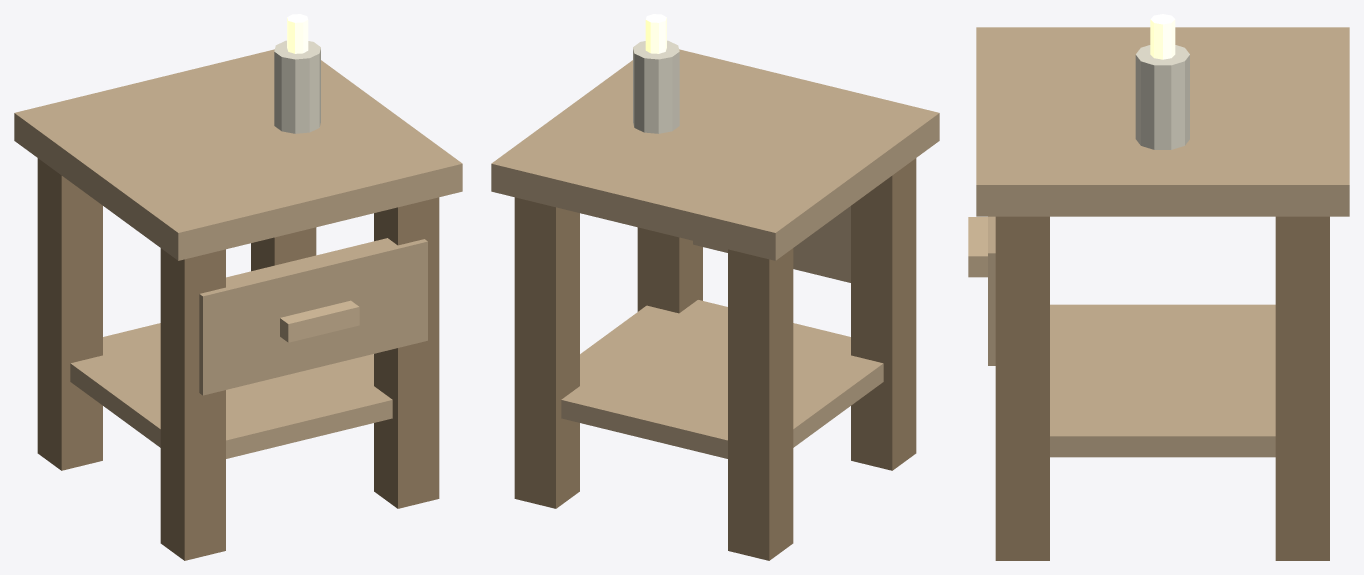
The model's file is 18-Casas_velador.glb.
The picture shows the model from 3 angles, left to right: view 1: azimuth 30°, elevation 25°; view 2: azimuth 150°, elevation 25°; view 3: azimuth 270°, elevation 25°; orthographic projection. The views are drawn at different scales.
Visible parts, largest first — view 1: SM_Velador_Tablero, SM_Velador_Cajon, SM_Velador_Repisa, SM_Velador_Pata_PD, SM_Velador_Pata_PI, SM_Velador_Pata_CI, SM_Velador_VelaLlama, SM_Velador_Tirador, SM_Velador_Pata_CD; view 2: SM_Velador_Tablero, SM_Velador_Repisa, SM_Velador_Pata_PD, SM_Velador_Pata_CD, SM_Velador_Pata_PI, SM_Velador_Pata_CI, SM_Velador_VelaLlama, SM_Velador_Cajon; view 3: SM_Velador_Tablero, SM_Velador_Repisa, SM_Velador_Pata_CI, SM_Velador_Pata_CD, SM_Velador_VelaLlama, SM_Velador_Tirador, SM_Velador_Cajon.
Boxes of the visible parts, x1,y1,x2,y2 form: SM_Velador_Tablero: (14,49,462,260); SM_Velador_Cajon: (199,238,427,395); SM_Velador_Repisa: (70,323,392,458); SM_Velador_Pata_PD: (37,158,102,470); SM_Velador_Pata_PI: (160,248,225,560); SM_Velador_Pata_CI: (374,197,439,508); SM_Velador_VelaLlama: (274,14,320,133); SM_Velador_Tirador: (280,300,359,342); SM_Velador_Pata_CD: (251,227,316,271); SM_Velador_Tablero: (491,49,939,260); SM_Velador_Repisa: (561,300,883,458); SM_Velador_Pata_PD: (728,248,793,560); SM_Velador_Pata_CD: (514,197,579,508); SM_Velador_Pata_PI: (851,158,916,470); SM_Velador_Pata_CI: (637,227,702,313); SM_Velador_VelaLlama: (633,14,679,133); SM_Velador_Cajon: (693,206,850,282); SM_Velador_Tablero: (976,27,1349,216); SM_Velador_Repisa: (1050,304,1275,457); SM_Velador_Pata_CI: (995,216,1049,560); SM_Velador_Pata_CD: (1275,216,1329,560); SM_Velador_VelaLlama: (1135,14,1189,149); SM_Velador_Tirador: (968,217,987,277); SM_Velador_Cajon: (988,216,995,365).
Bounding box in the file's own units: 0.48 × 0.715 × 0.49.
